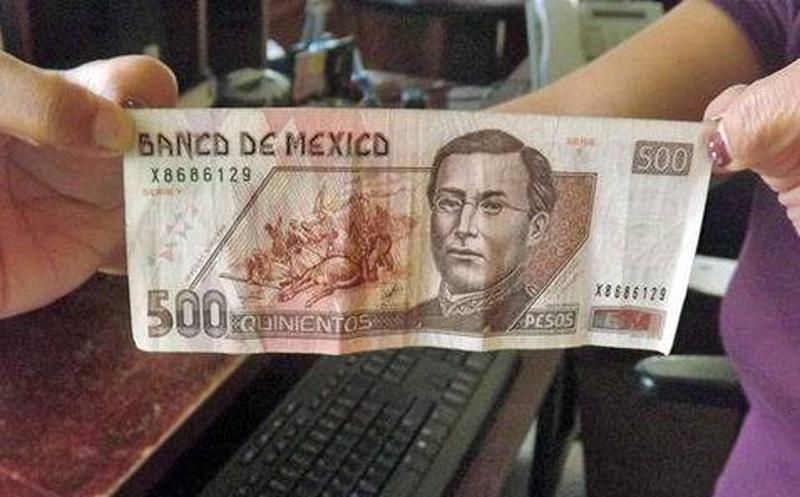billete: (120, 108, 714, 356)
